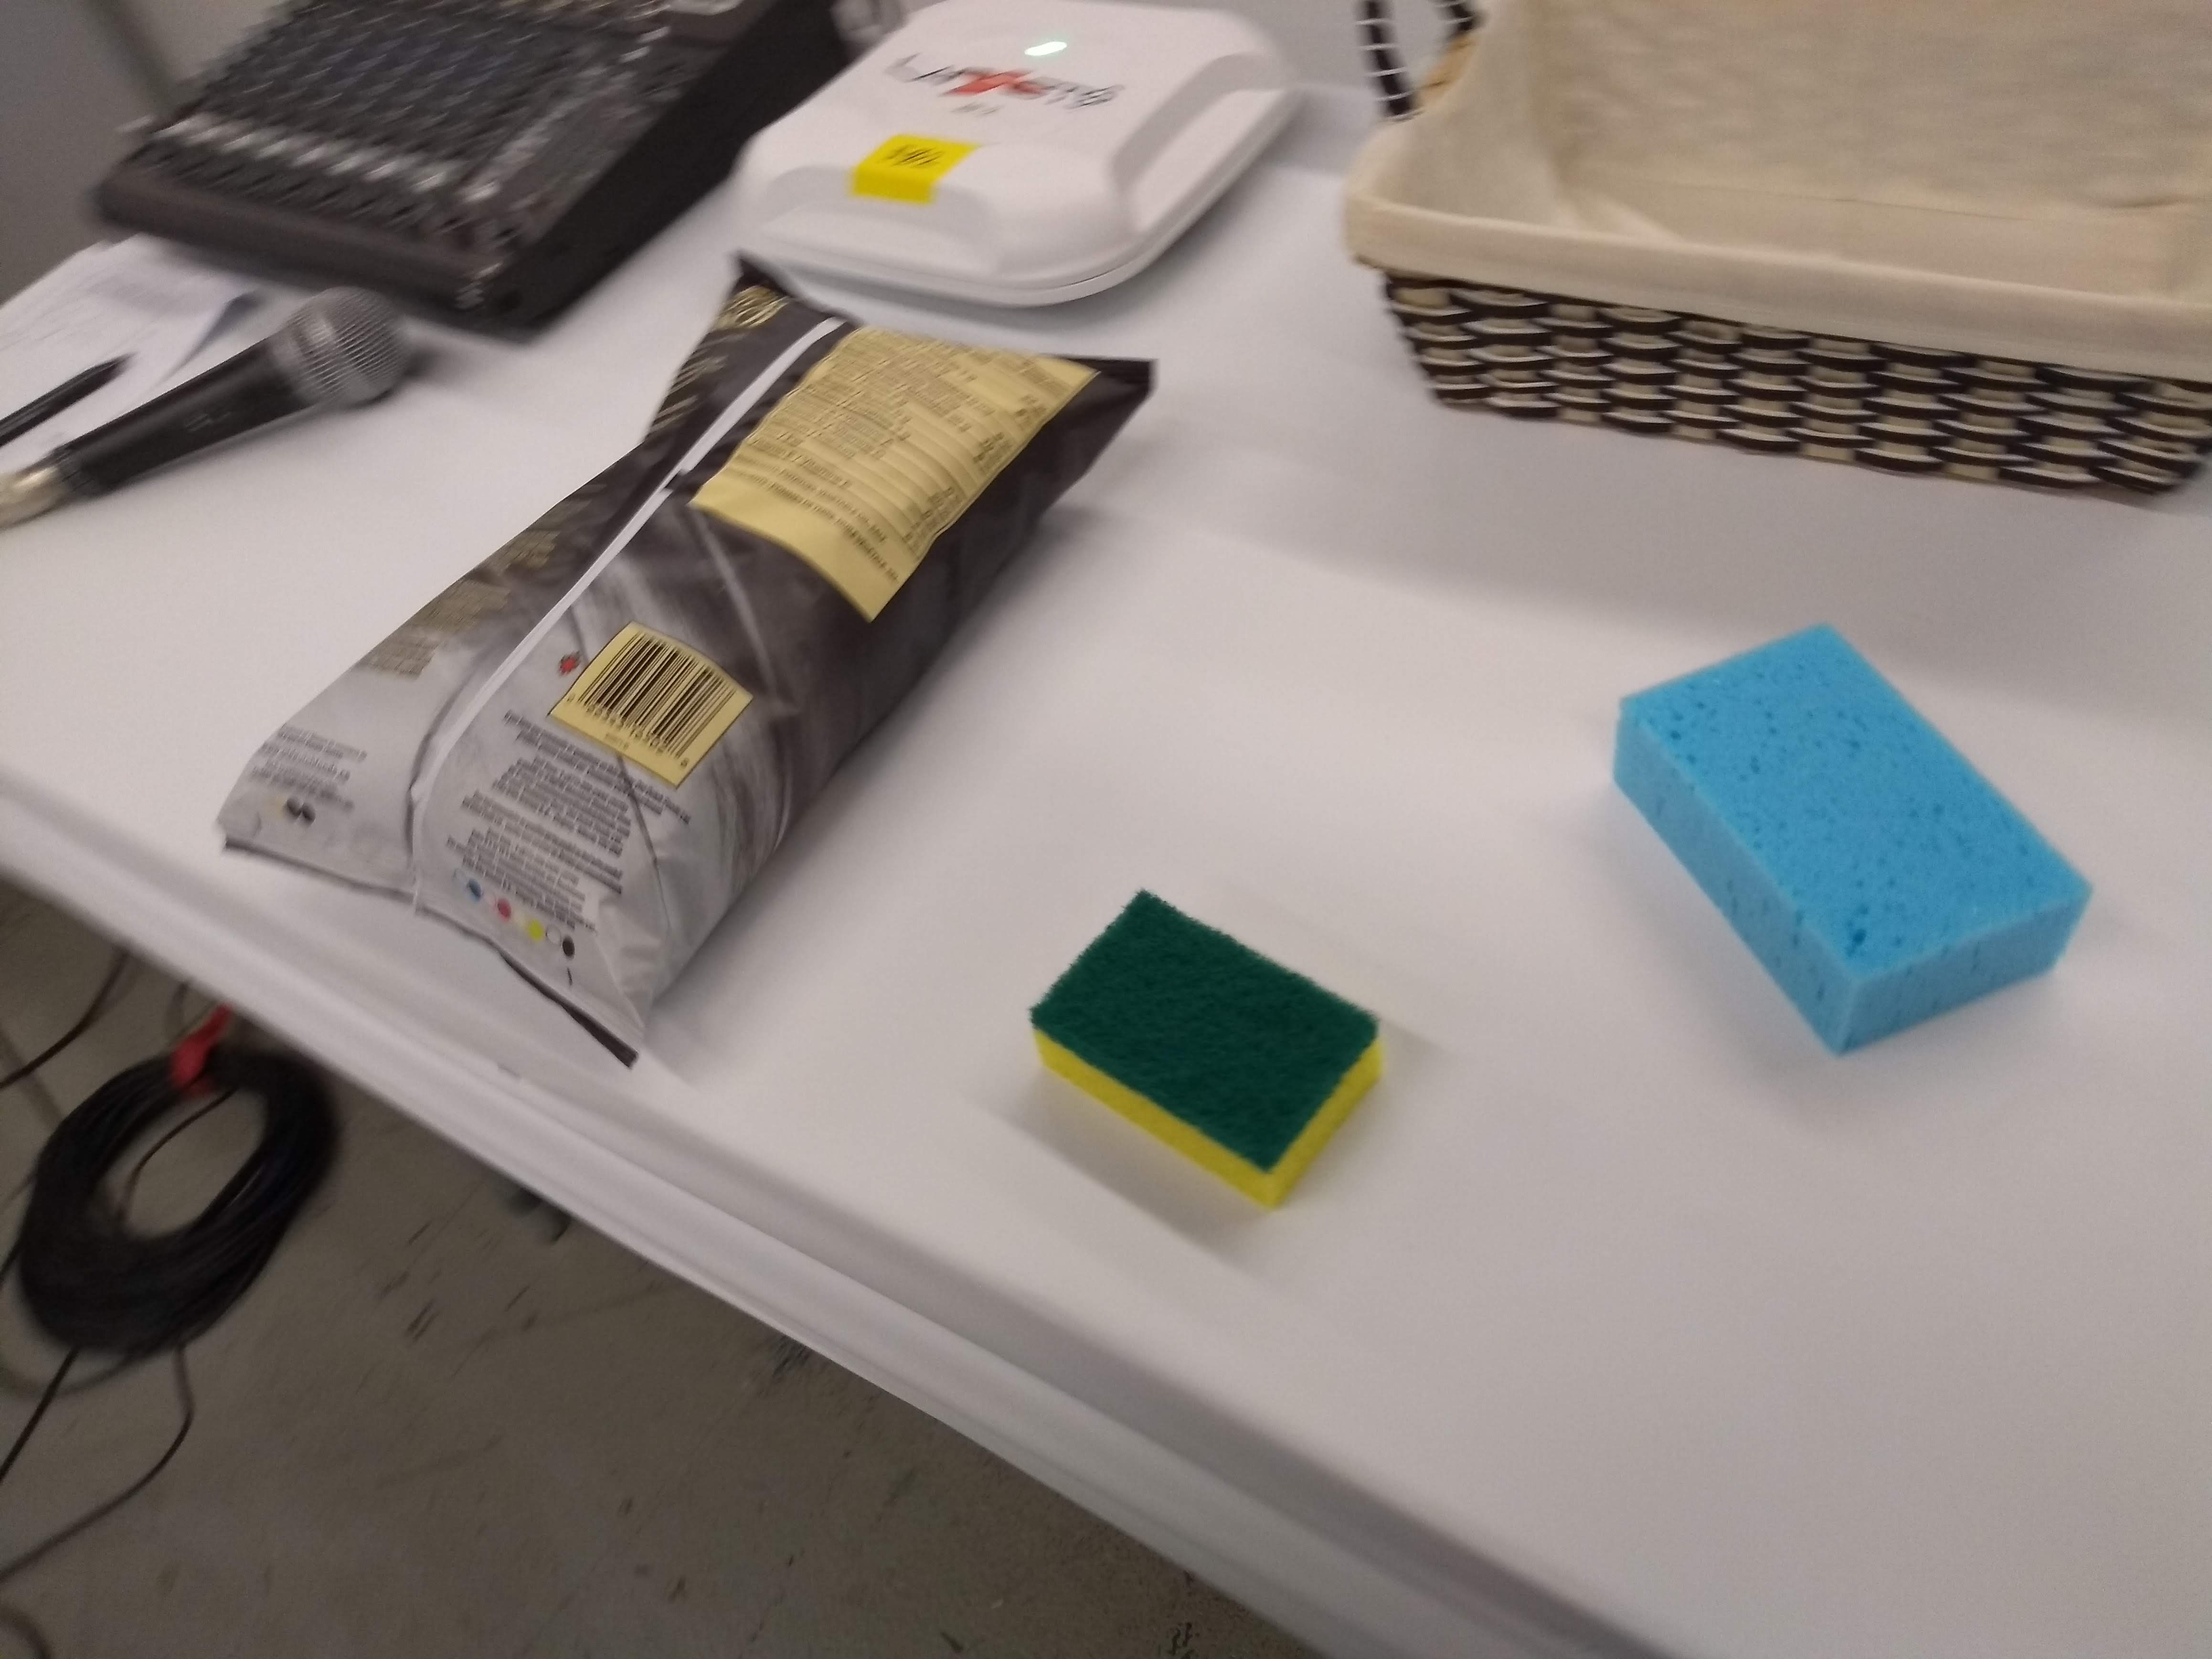potato_chips: (202, 239, 1165, 1086)
scrubby: (1017, 878, 1393, 1215)
sponge_opl: (1601, 610, 2104, 1065)
